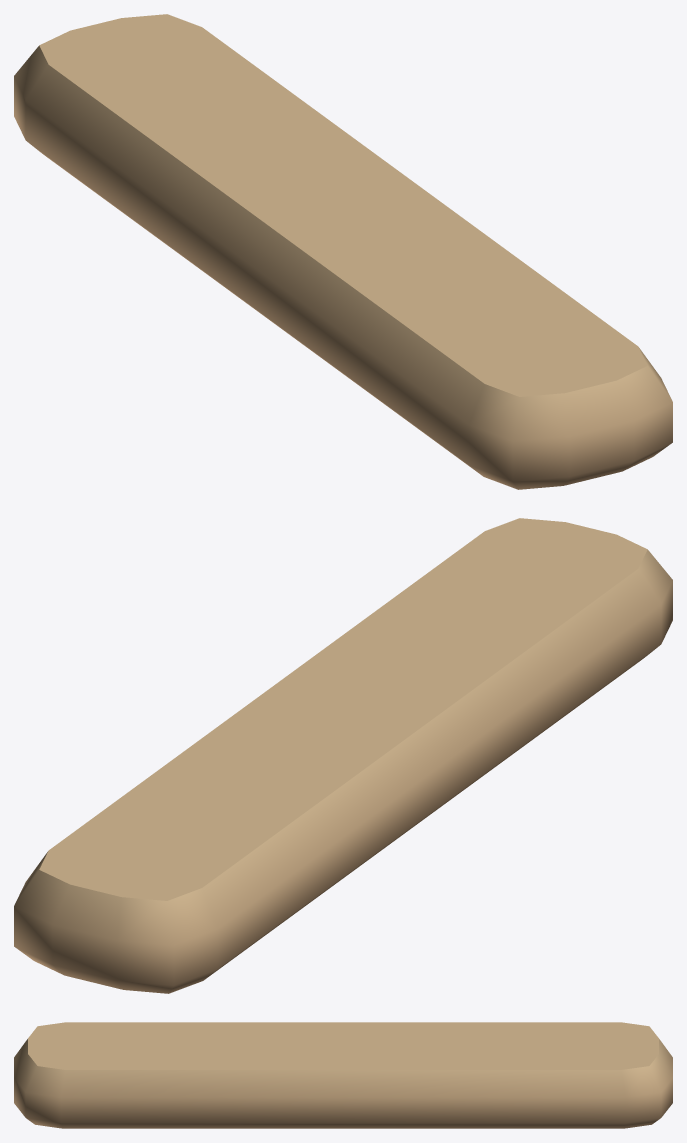
Rendered from pillow-wider-round-laying.glb.
3 renders of one model, top to bottom at view 1: azimuth 30°, elevation 25°; view 2: azimuth 150°, elevation 25°; view 3: azimuth 270°, elevation 25°, orthographic. The views are drawn at different scales.
Parts seen in each view (by area): view 1: pillow-wider-round-laying; view 2: pillow-wider-round-laying; view 3: pillow-wider-round-laying.
Boxes of the visible parts, x1,y1,x2,y2 form: pillow-wider-round-laying: (14,14,672,489); pillow-wider-round-laying: (14,518,672,993); pillow-wider-round-laying: (14,1022,672,1128).
Bounding box in the file's own units: 0.3 × 0.1352 × 1.4.
